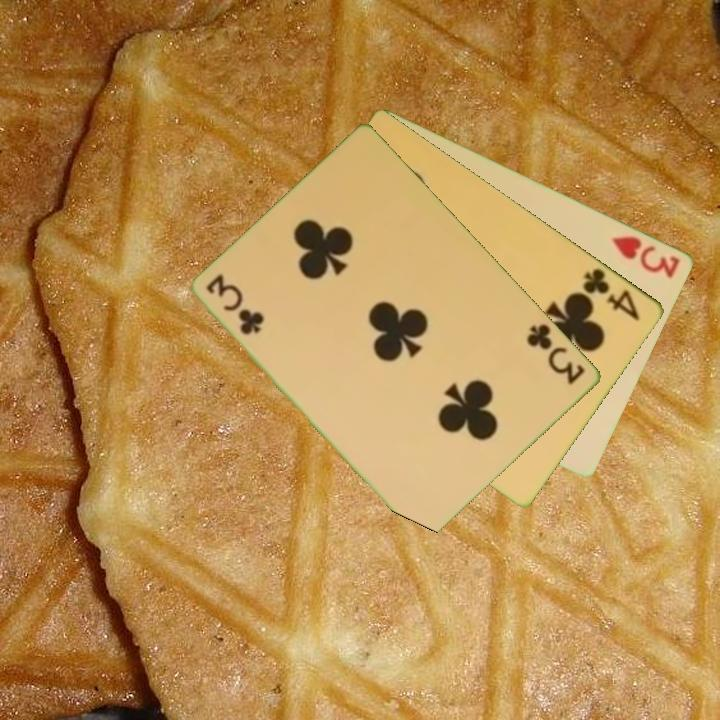3c: (523, 320, 589, 388), (203, 271, 267, 338)
3h: (609, 232, 684, 281)
4c: (580, 264, 644, 324)
